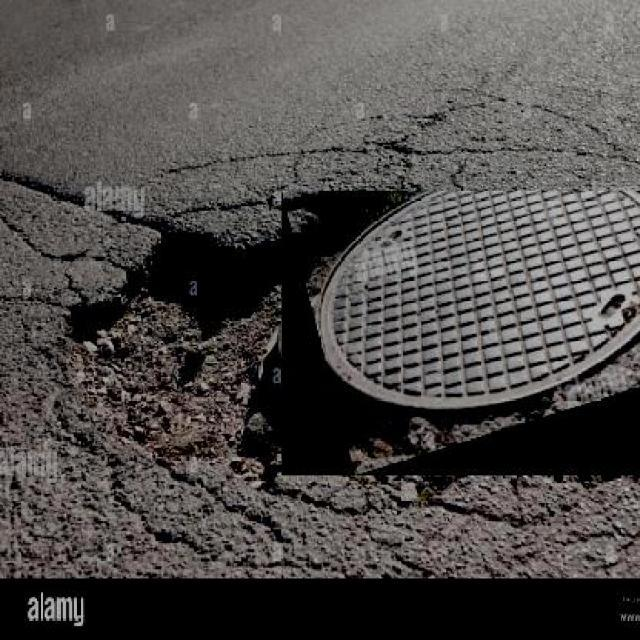Manhole: (281, 190, 640, 475)
Pothole: (126, 196, 280, 320), (228, 326, 284, 490), (56, 288, 130, 354), (170, 340, 214, 396)
